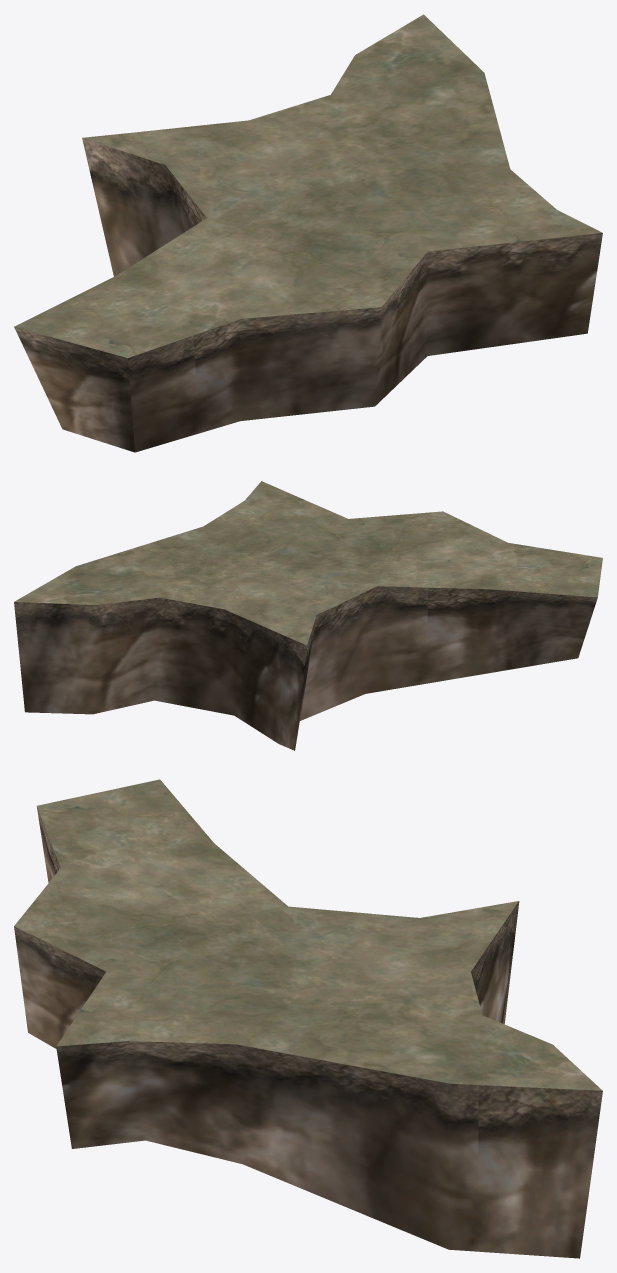
File: ANIMATEDINSTANCES_ROCKFALL_02__BA.fbx
The picture shows the model from 3 angles, top to bottom: view 1: azimuth 30°, elevation 25°; view 2: azimuth 150°, elevation 25°; view 3: azimuth 270°, elevation 25°; orthographic projection. The views are drawn at different scales.
Visible parts, largest first — view 1: ANIMATEDINSTANCES_ROCKFALL_02__BA; view 2: ANIMATEDINSTANCES_ROCKFALL_02__BA; view 3: ANIMATEDINSTANCES_ROCKFALL_02__BA.
Boxes of the visible parts, x1=… form: ANIMATEDINSTANCES_ROCKFALL_02__BA: x1=14, y1=14, x2=602, y2=452; ANIMATEDINSTANCES_ROCKFALL_02__BA: x1=14, y1=481, x2=602, y2=750; ANIMATEDINSTANCES_ROCKFALL_02__BA: x1=14, y1=779, x2=602, y2=1258.
Size of the model in its own units: 29827 by 7590 by 23836.
2 materials, 2 textured.
